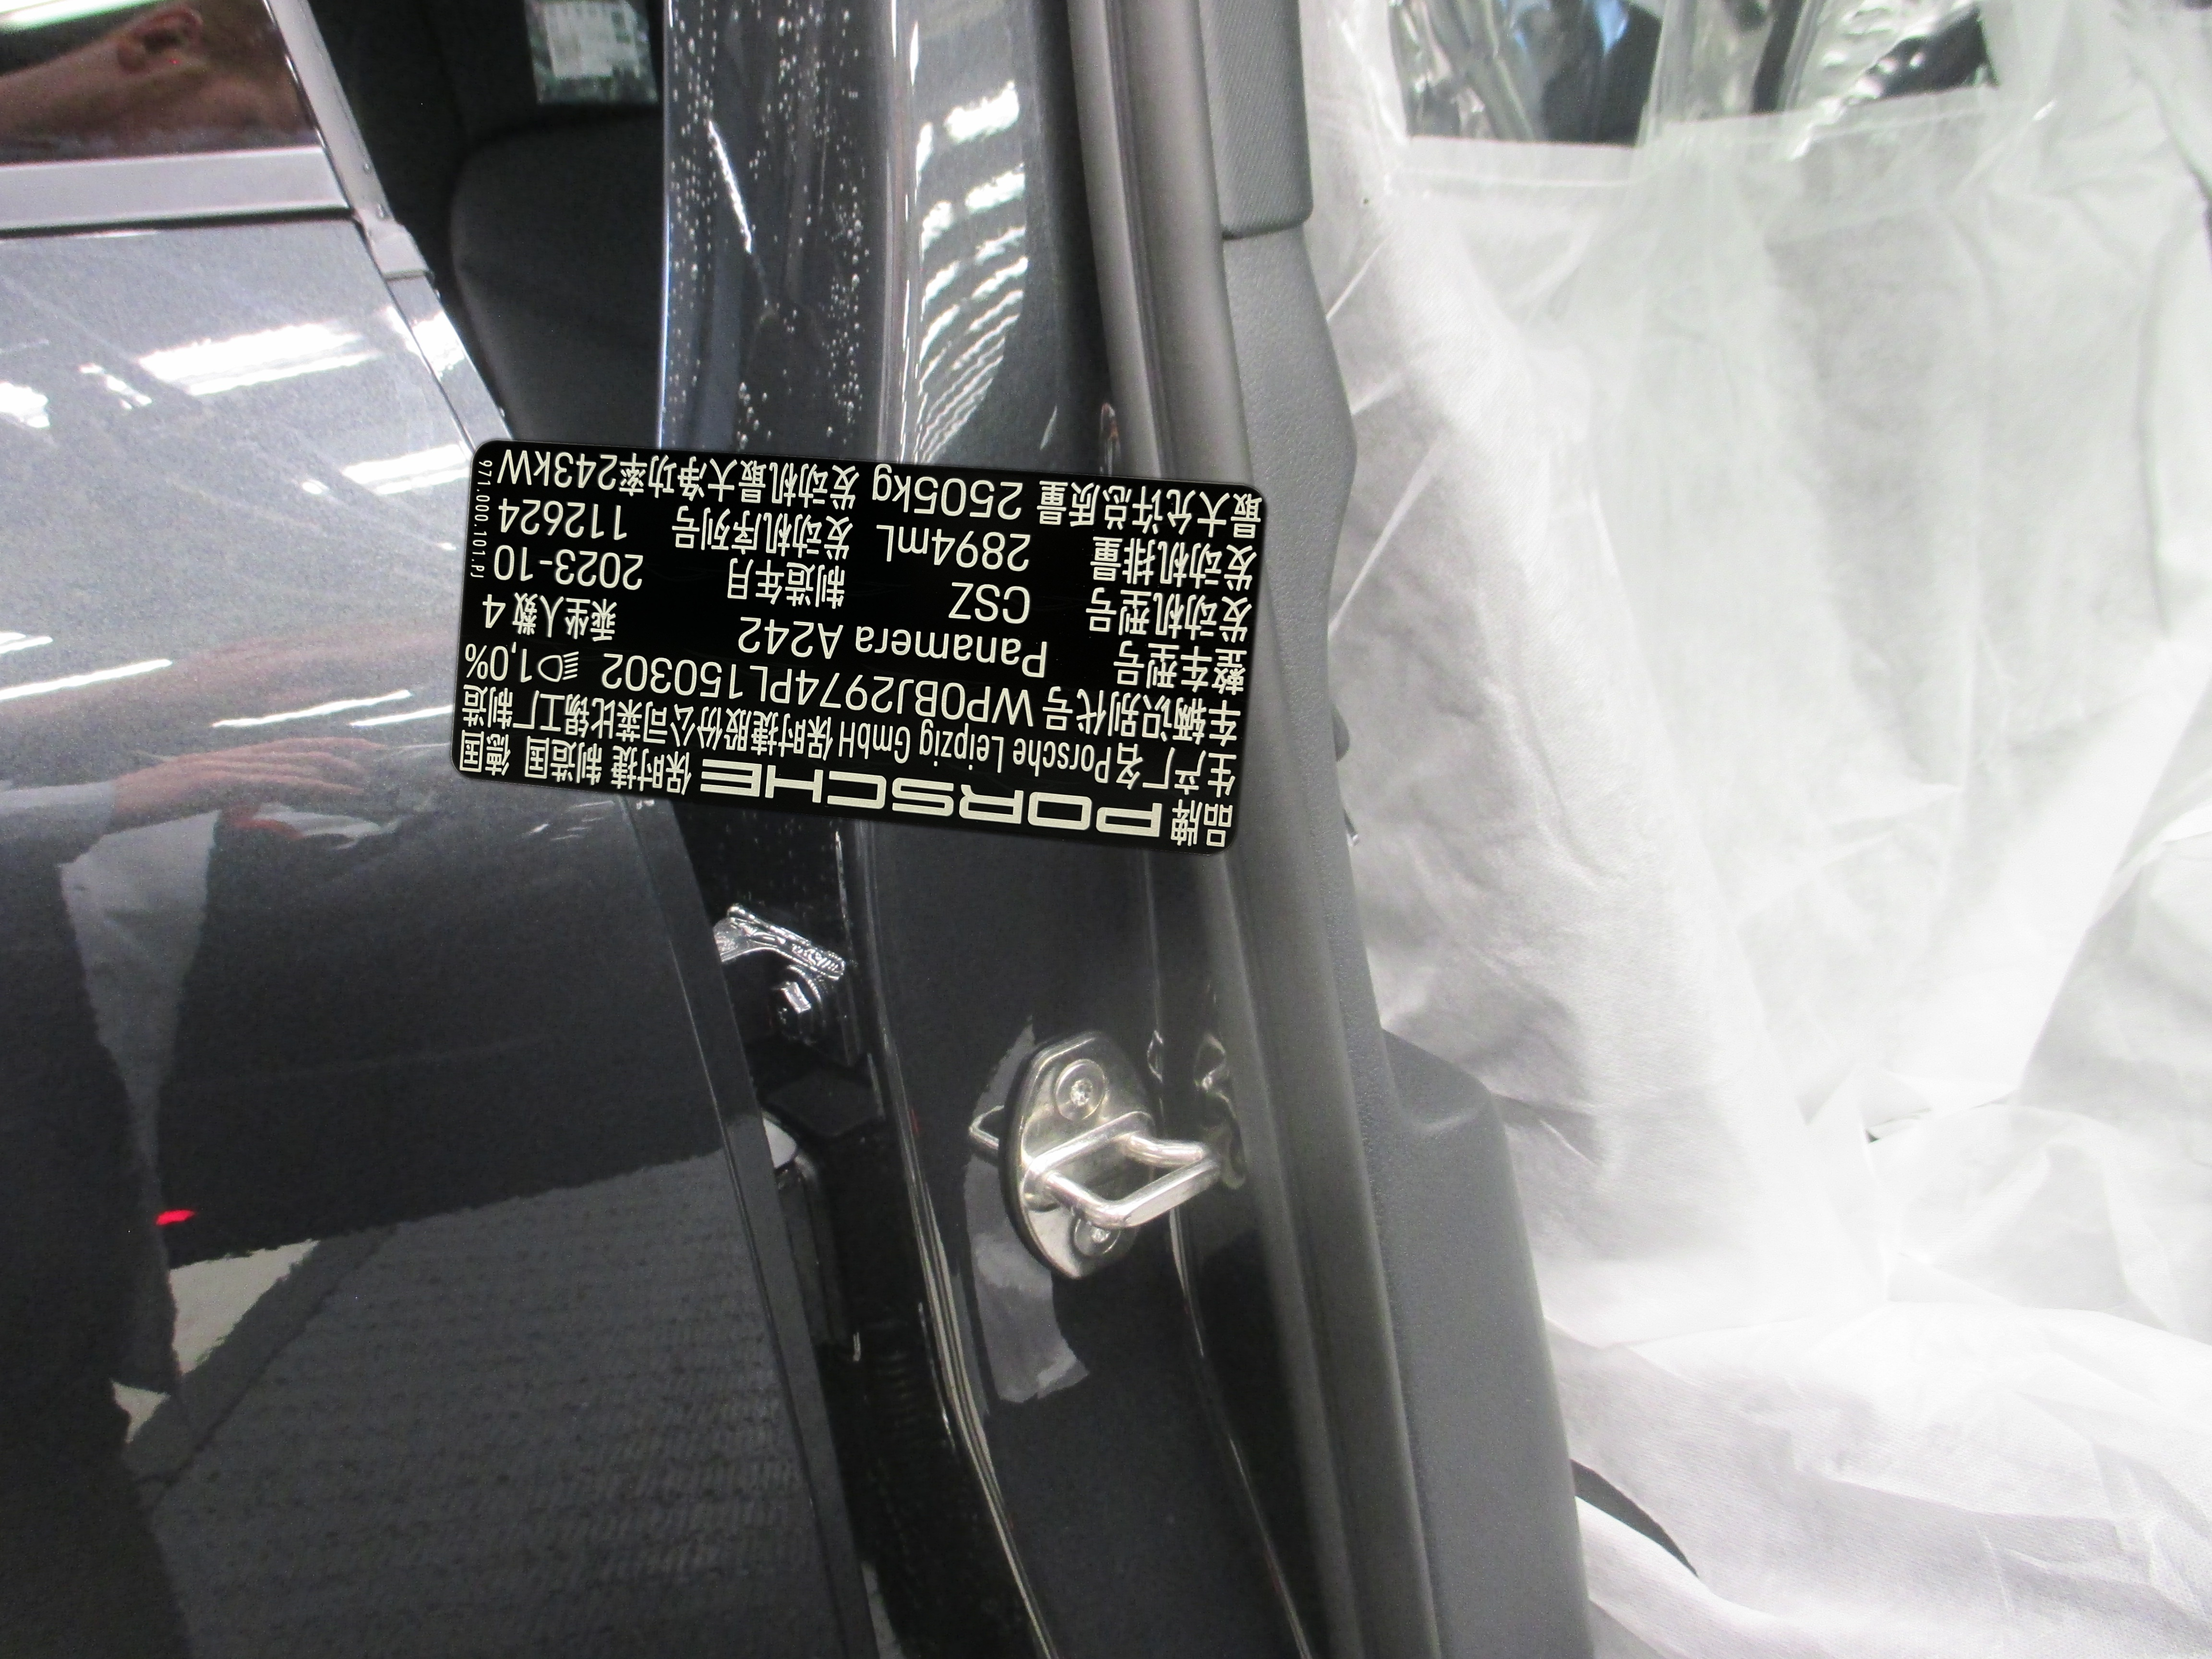Typlabel-China: (451, 439, 1266, 856)
